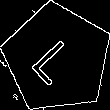L_NE: (29, 30, 86, 87)
